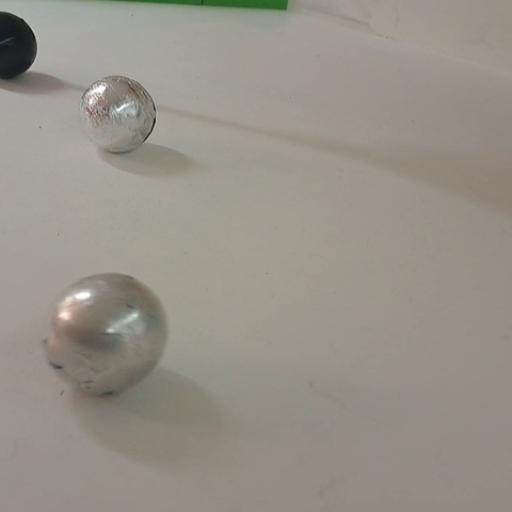alive: (40, 270, 170, 400), (76, 74, 158, 154)
dead: (0, 9, 38, 79)
